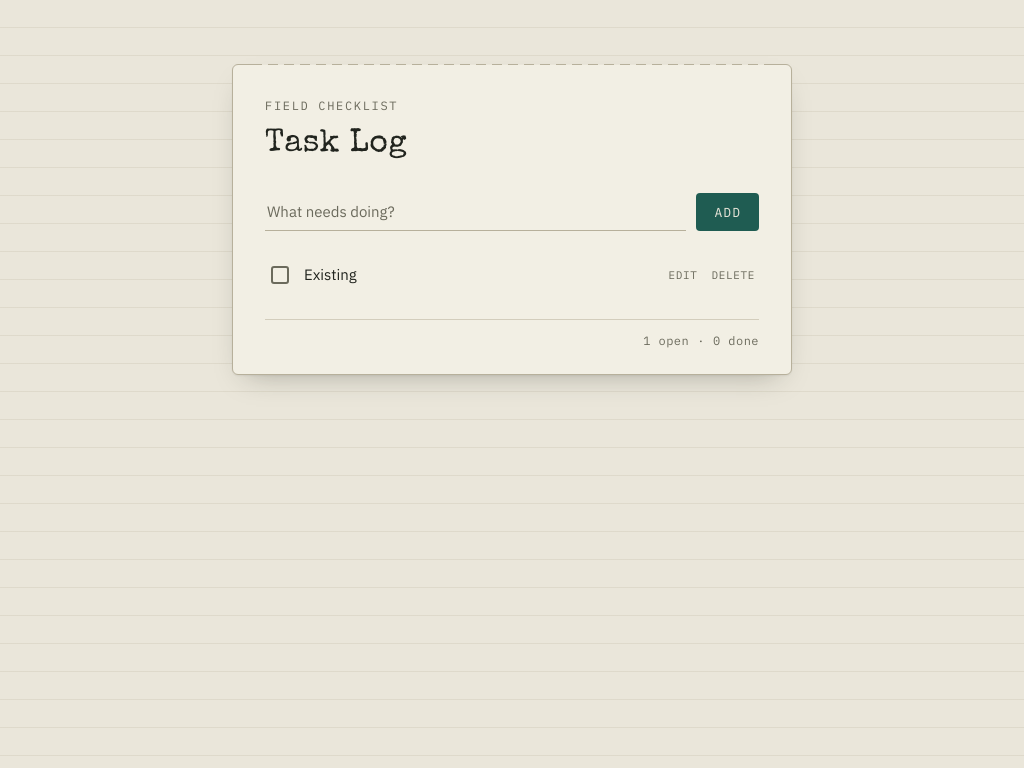
Test: App › adds a new todo
Expected: the text "Existing" is shown, [304,264,357,286]
Type "New task" into the field named "new todo" at (476,212), box [265,193,686,231]
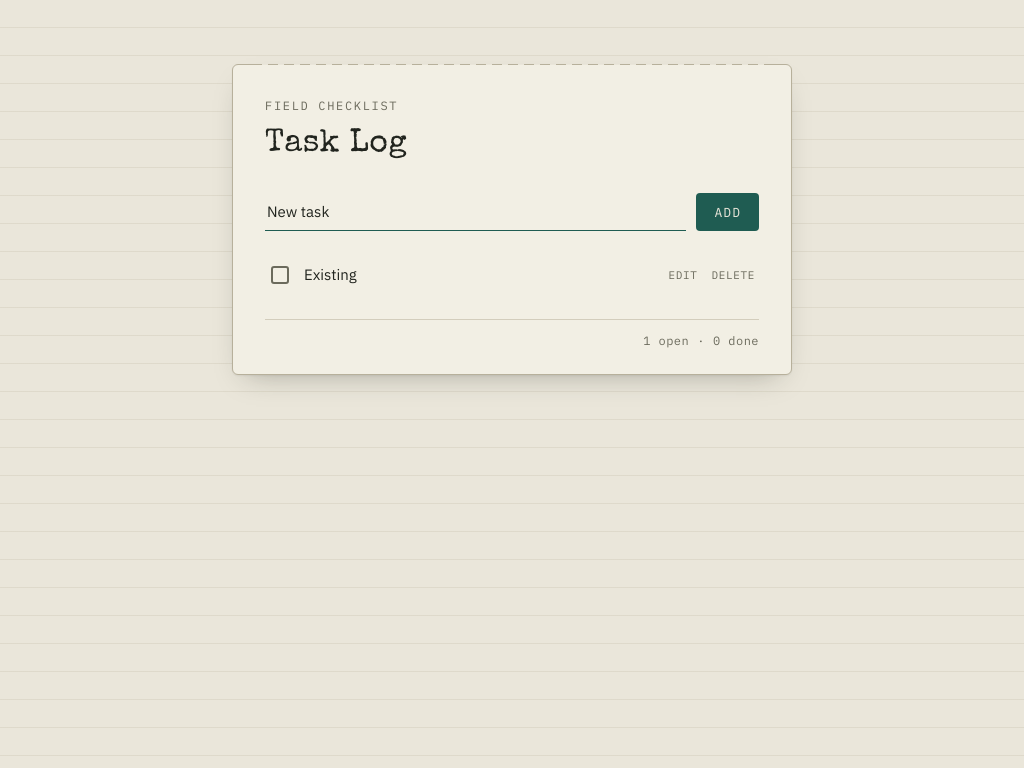
Click the button "Add" at (728,212), box [696,193,759,231]
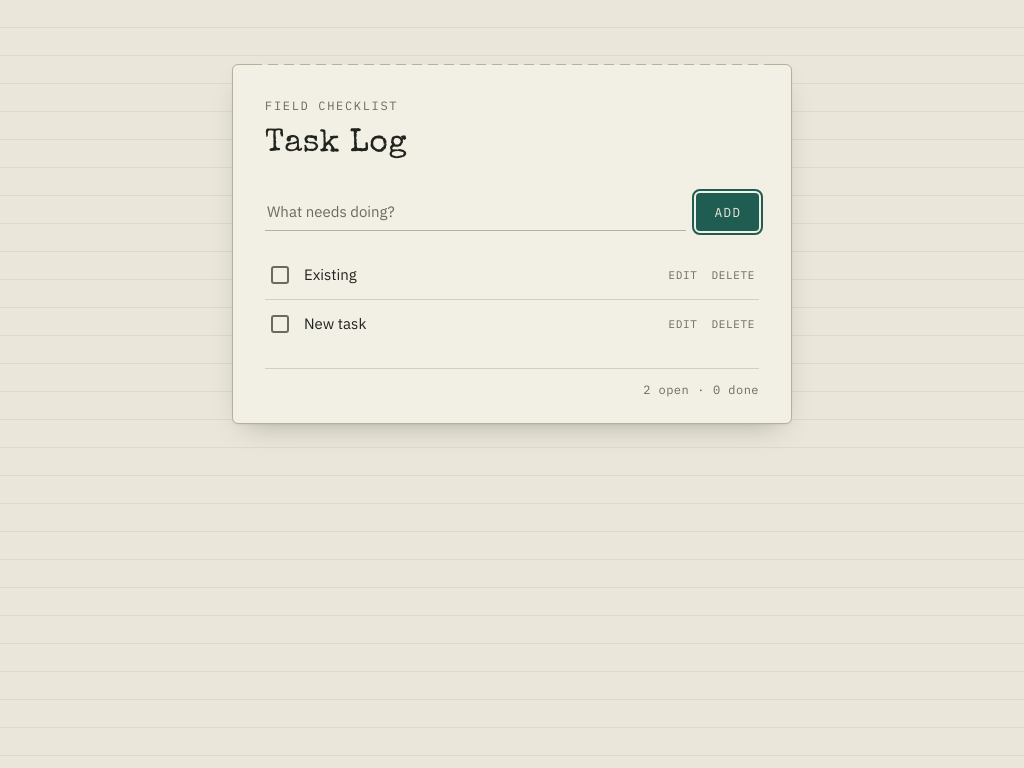
Expected: the text "New task" is shown, [304,313,366,335]
